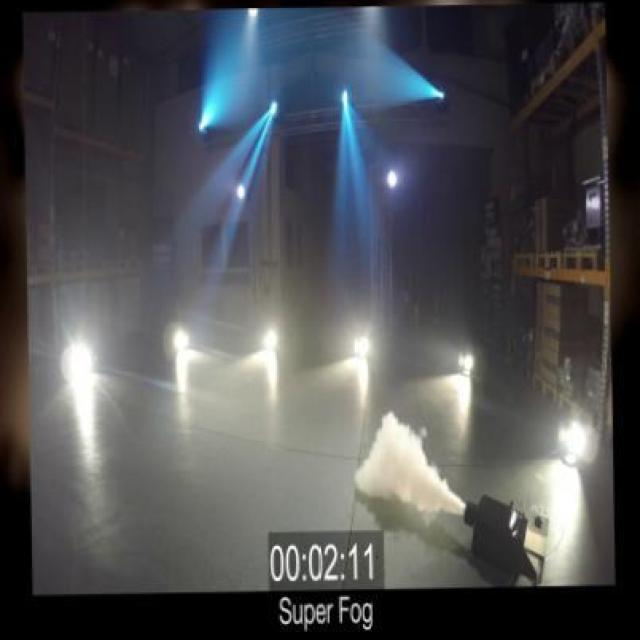fire: (350, 406, 452, 519)
